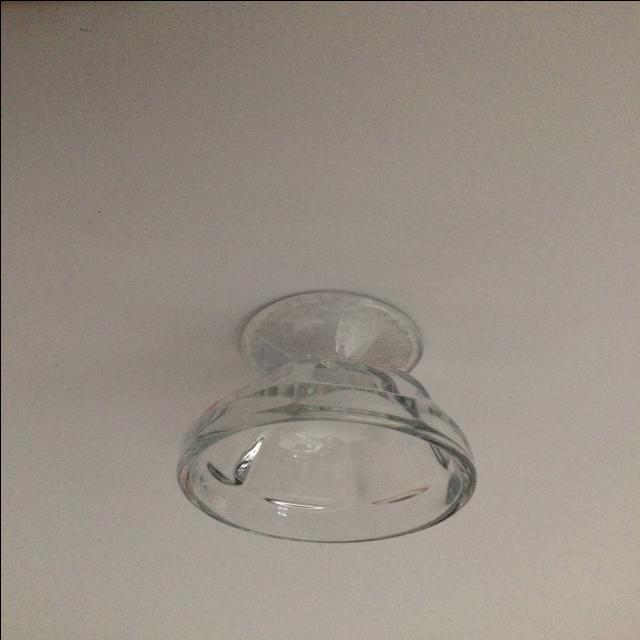glass: (173, 292, 479, 544)
